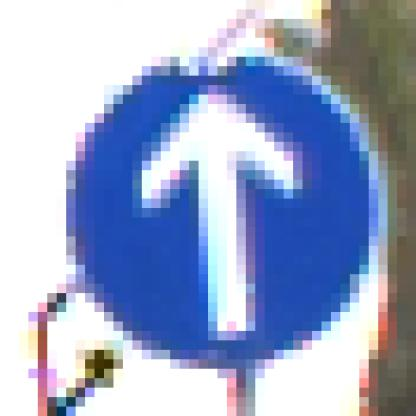AheadOnly: (58, 48, 370, 370)
